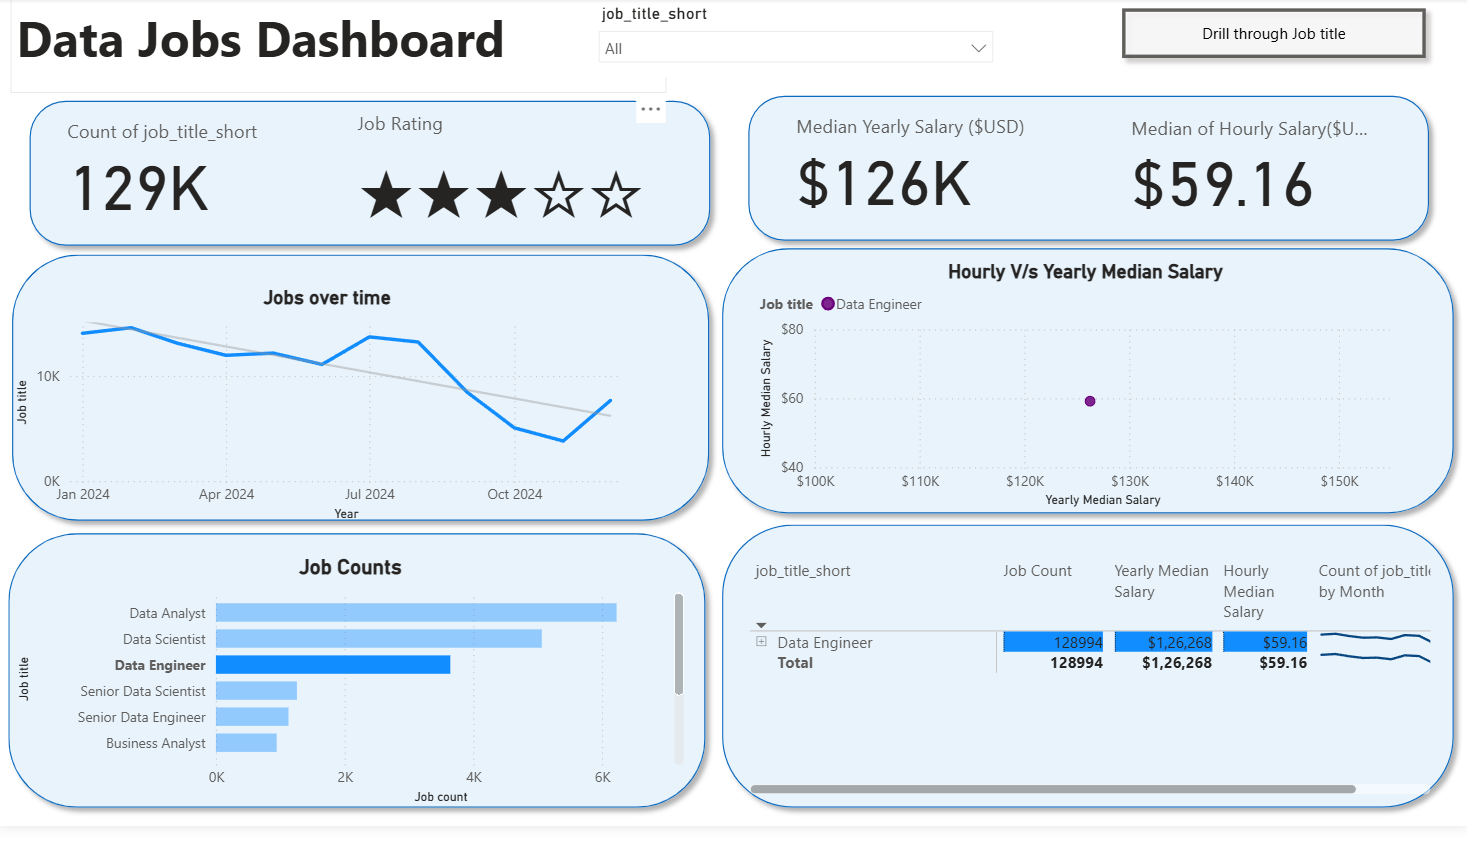

Layout of this report page (visuals, bound fields, positions):
{"tool":"powerbi","page":{"name":"Data jobs dashboard project","canvas":[1280,720],"ordinal":0},"visuals":[{"type":"group","id":"g1","title":"Background","box":[0,75.6,1275.2,637.6],"z":0},{"type":"shape","box":[18,80.3,610.1,144],"z":0,"group":"g1"},{"type":"textbox","box":[10.5,0,570.9,82.6],"z":1000},{"type":"shape","box":[643.8,75.6,610.1,144],"z":1000,"group":"g1"},{"type":"slicer","fields":{"Values":["job_postings_flat.job_title_short"]},"box":[511.8,0,363.6,68.6],"z":2000},{"type":"shape","box":[3.6,213.6,624.3,249.4],"z":2000,"group":"g1"},{"type":"cardVisual","fields":{"Data":["Median(job_postings_flat.salary_year_avg)"]},"box":[677.2,82.9,273.8,126.1],"z":3000},{"type":"shape","box":[620.8,208.8,654.4,248.6],"z":3000,"group":"g1"},{"type":"cardVisual","fields":{"Data":["Median(job_postings_flat.salary_hour_avg)"]},"box":[969,96.1,247.4,103.3],"z":4000},{"type":"shape","box":[0,456.6,624.3,256.6],"z":4000,"group":"g1"},{"type":"cardVisual","fields":{"Data":["job_postings_flat.Job Rating"]},"box":[295.4,96.1,289.4,112.9],"z":5000},{"type":"shape","box":[620.8,448.3,654.4,264.2],"z":5000,"group":"g1"},{"type":"lineChart","title":"Jobs over time","fields":{"Category":["job_postings_flat.job_posted_date.Variation.Date Hierarchy.Year","job_postings_flat.job_posted_date.Variation.Date Hierarchy.Quarter","job_postings_flat.job_posted_date.Variation.Date Hierarchy.Month","job_postings_flat.job_posted_date.Variation.Date Hierarchy.Day"],"Y":["CountNonNull(job_postings_flat.job_title_short)"]},"box":[10.8,249.8,551.1,210.1],"z":7000},{"type":"barChart","title":"Job Counts","fields":{"Category":["job_postings_flat.job_title_short"],"Y":["CountNonNull(job_postings_flat.salary_year_avg)"]},"box":[12,483.9,589.6,222.1],"z":8000},{"type":"scatterChart","title":"Hourly V/s Yearly Median Salary","fields":{"Series":["job_postings_flat.job_title_short"],"X":["Median(job_postings_flat.salary_year_avg)"],"Y":["Median(job_postings_flat.salary_hour_avg)"]},"box":[658,226.9,576.4,220.9],"z":9000},{"type":"pivotTable","fields":{"Rows":["job_postings_flat.job_title_short","job_postings_flat.job_posted_date.Variation.Date Hierarchy.Quarter"],"Values":["CountNonNull(job_postings_flat.job_title_short)","Median(job_postings_flat.salary_year_avg)","Median(job_postings_flat.salary_hour_avg)","SparklineData(CountNonNull(job_postings_flat.job_title_short)_[job_postings_flat.job_posted_date.Variation.Date Hierarch"]},"box":[649.6,483.9,601.6,213.7],"z":10000},{"type":"cardVisual","fields":{"Data":["CountNonNull(job_postings_flat.job_title_short)"]},"box":[43.2,99.7,243.8,99.7],"z":10001},{"type":"actionButton","box":[969,0,282.2,61.2],"z":10002}]}

Visuals, with their boxes in screenshot pixels (x1, y1, x2, y2):
"Background" group: 8:89:1449:810
shape: 28:95:718:257
textbox: 20:4:665:97
shape: 735:89:1425:252
slicer - job_postings_flat.job_title_short: 586:4:997:81
shape: 12:245:717:527
cardVisual - Median(job_postings_flat.salary_year_avg): 773:98:1083:240
shape: 709:240:1449:521
cardVisual - Median(job_postings_flat.salary_hour_avg): 1103:112:1382:229
shape: 8:520:713:810
cardVisual - job_postings_flat.Job Rating: 342:112:669:240
shape: 709:511:1449:809
"Jobs over time" lineChart: 20:286:643:524
"Job Counts" barChart: 21:551:688:802
"Hourly V/s Yearly Median Salary" scatterChart: 751:260:1403:510
pivotTable - job_postings_flat.job_title_short x job_postings_flat.job_posted_date.Variation.Date Hierarchy.Quarter: 742:551:1422:792
cardVisual - CountNonNull(job_postings_flat.job_title_short): 56:117:332:229
actionButton: 1103:4:1422:73
